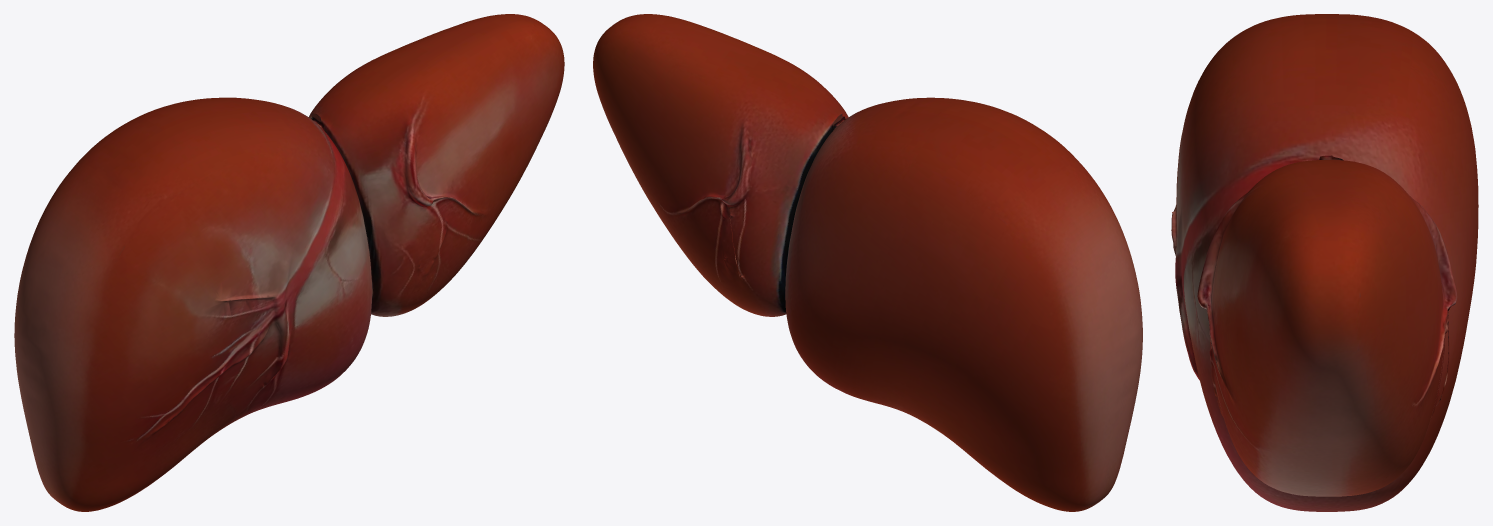
Rendered from cat_liver.glb.
The picture shows the model from 3 angles, left to right: view 1: azimuth 30°, elevation 25°; view 2: azimuth 150°, elevation 25°; view 3: azimuth 270°, elevation 25°; orthographic projection. The views are drawn at different scales.
Parts seen in each view (by area): view 1: model; view 2: model; view 3: model.
Boxes of the visible parts, bbox=[...] form: model: bbox=[14, 14, 564, 511]; model: bbox=[593, 14, 1142, 511]; model: bbox=[1171, 14, 1478, 511].
Bounding box in the file's own units: 1.9 × 1.32 × 0.6827.
Materials: 1 (1 with a texture image).
